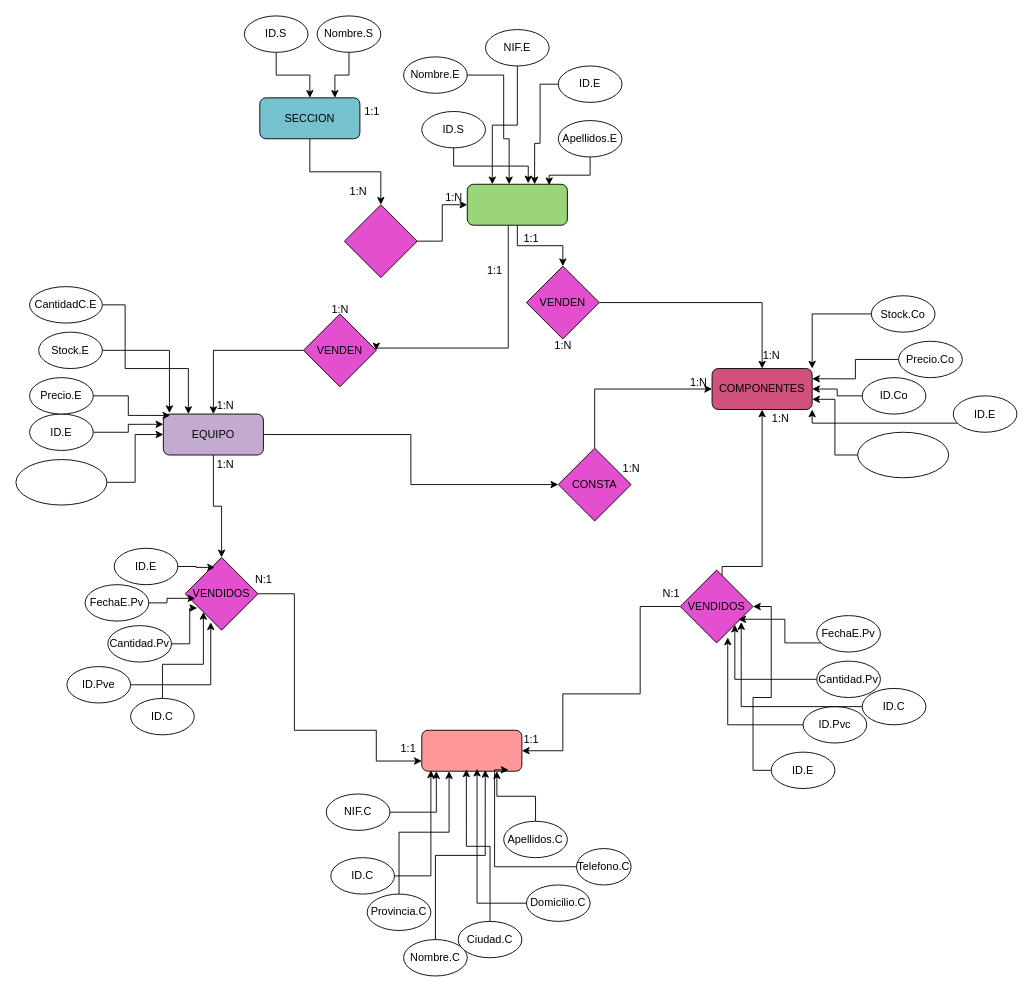
The diagram is 1033 pixels wide and 992 high, and some of its shapes have lost their labels. Each missing label, with the centre of its shape:
CLIENTE: point 471,750
Descripcion.Co: point 903,454
Descripcion.E: point 61,482
EMPLEADOS: point 516,204
TRABAJAN: point 380,241
